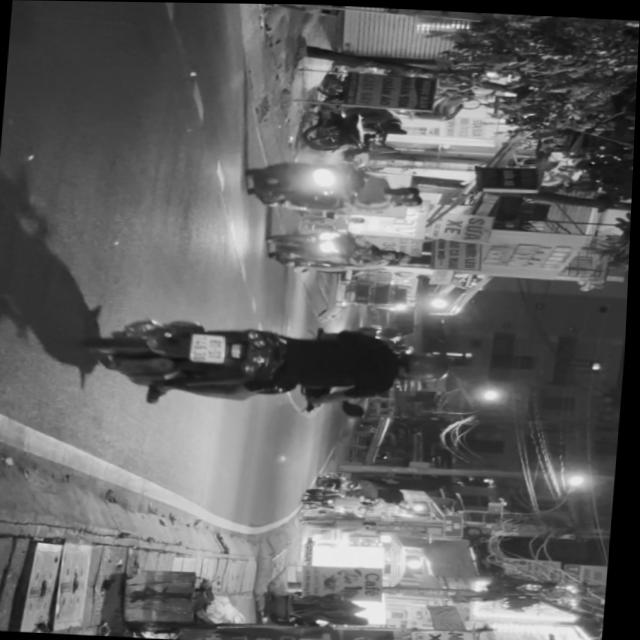helmet: (399, 348, 454, 380)
licenseplate: (67, 308, 459, 415), (241, 153, 435, 217)
motorcyclist: (388, 183, 425, 204)
nohelmet: (193, 332, 229, 361)
